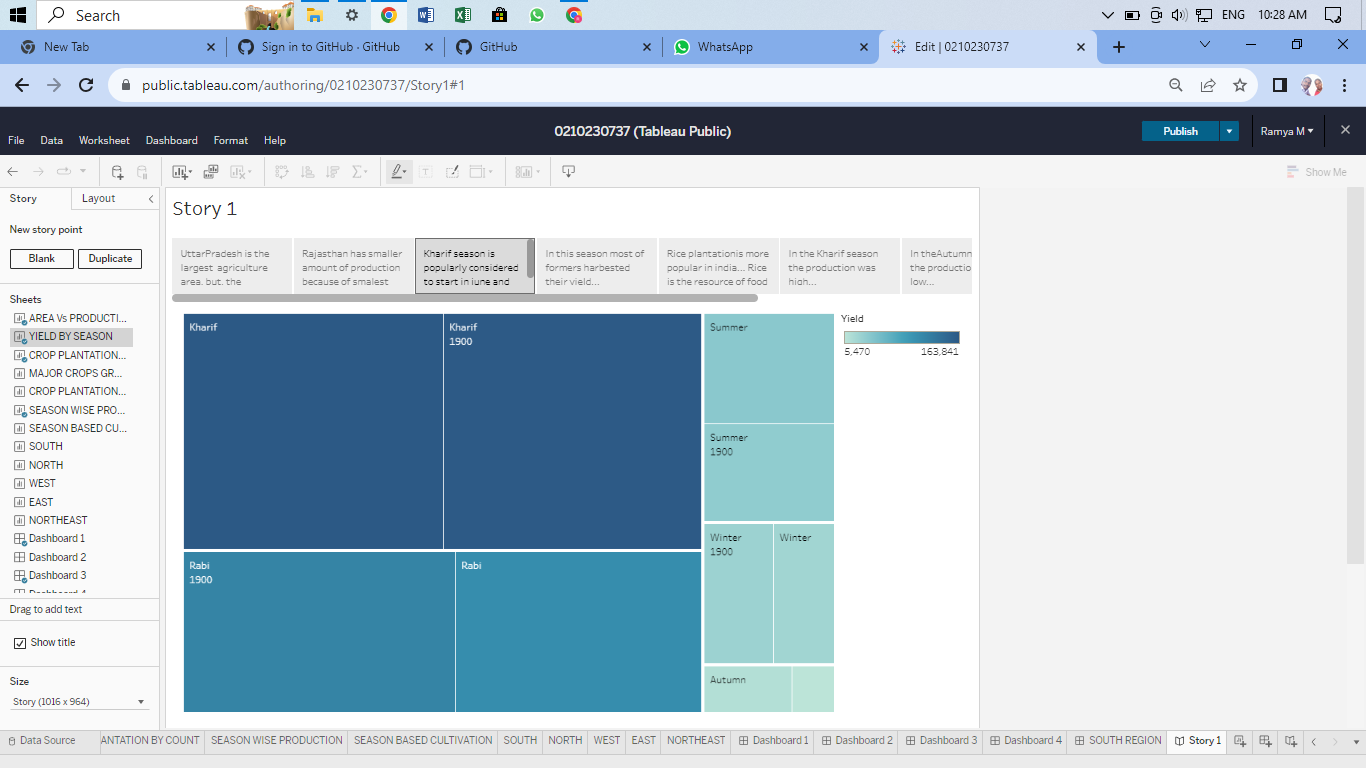

The page's visual inventory and layout, read from the dashboard file:
{"tool":"tableau","page":{"name":"Dashboard 2","canvas":[1000,1000],"units":"permille","ordinal":1},"visuals":[{"type":"worksheet","title":"YIELD BY SEASON","mark":"Automatic","box":[4.3,10,851.1,516.6]},{"type":"legend","title":"YIELD BY SEASON","param":"[federated.0jbw6hw00qi6cd12y6h290paafz2].[sum:Yield:qk]","box":[886.8,11.9,107.8,101.5]},{"type":"filter","title":"SEASON BASED CULTIVATION","param":"[federated.0jbw6hw00qi6cd12y6h290paafz2].[none:Season:nk]","box":[886.8,113.4,107.8,83.6]},{"type":"legend","title":"SEASON BASED CULTIVATION","param":"[federated.0jbw6hw00qi6cd12y6h290paafz2].[sum:Area:qk]","box":[886.8,197,107.8,101.5]},{"type":"dashboard-object","box":[735.4,626.2,119.6,86.4]},{"type":"dashboard-object","box":[735.4,716,119.6,79.7]}]}

Visuals, with their boxes on the dashboard's canvas, which has no fixed pixel size, in thousandths of its width and height (x1, y1, x2, y2). These are canvas units, not pixel positions in the 1366x768 screenshot, which may show the page scaled, cropped or inside an application window:
"YIELD BY SEASON" worksheet: BBox(4, 10, 855, 527)
"YIELD BY SEASON" legend: BBox(887, 12, 995, 113)
"SEASON BASED CULTIVATION" filter: BBox(887, 113, 995, 197)
"SEASON BASED CULTIVATION" legend: BBox(887, 197, 995, 298)
dashboard-object: BBox(735, 626, 855, 713)
dashboard-object: BBox(735, 716, 855, 796)
